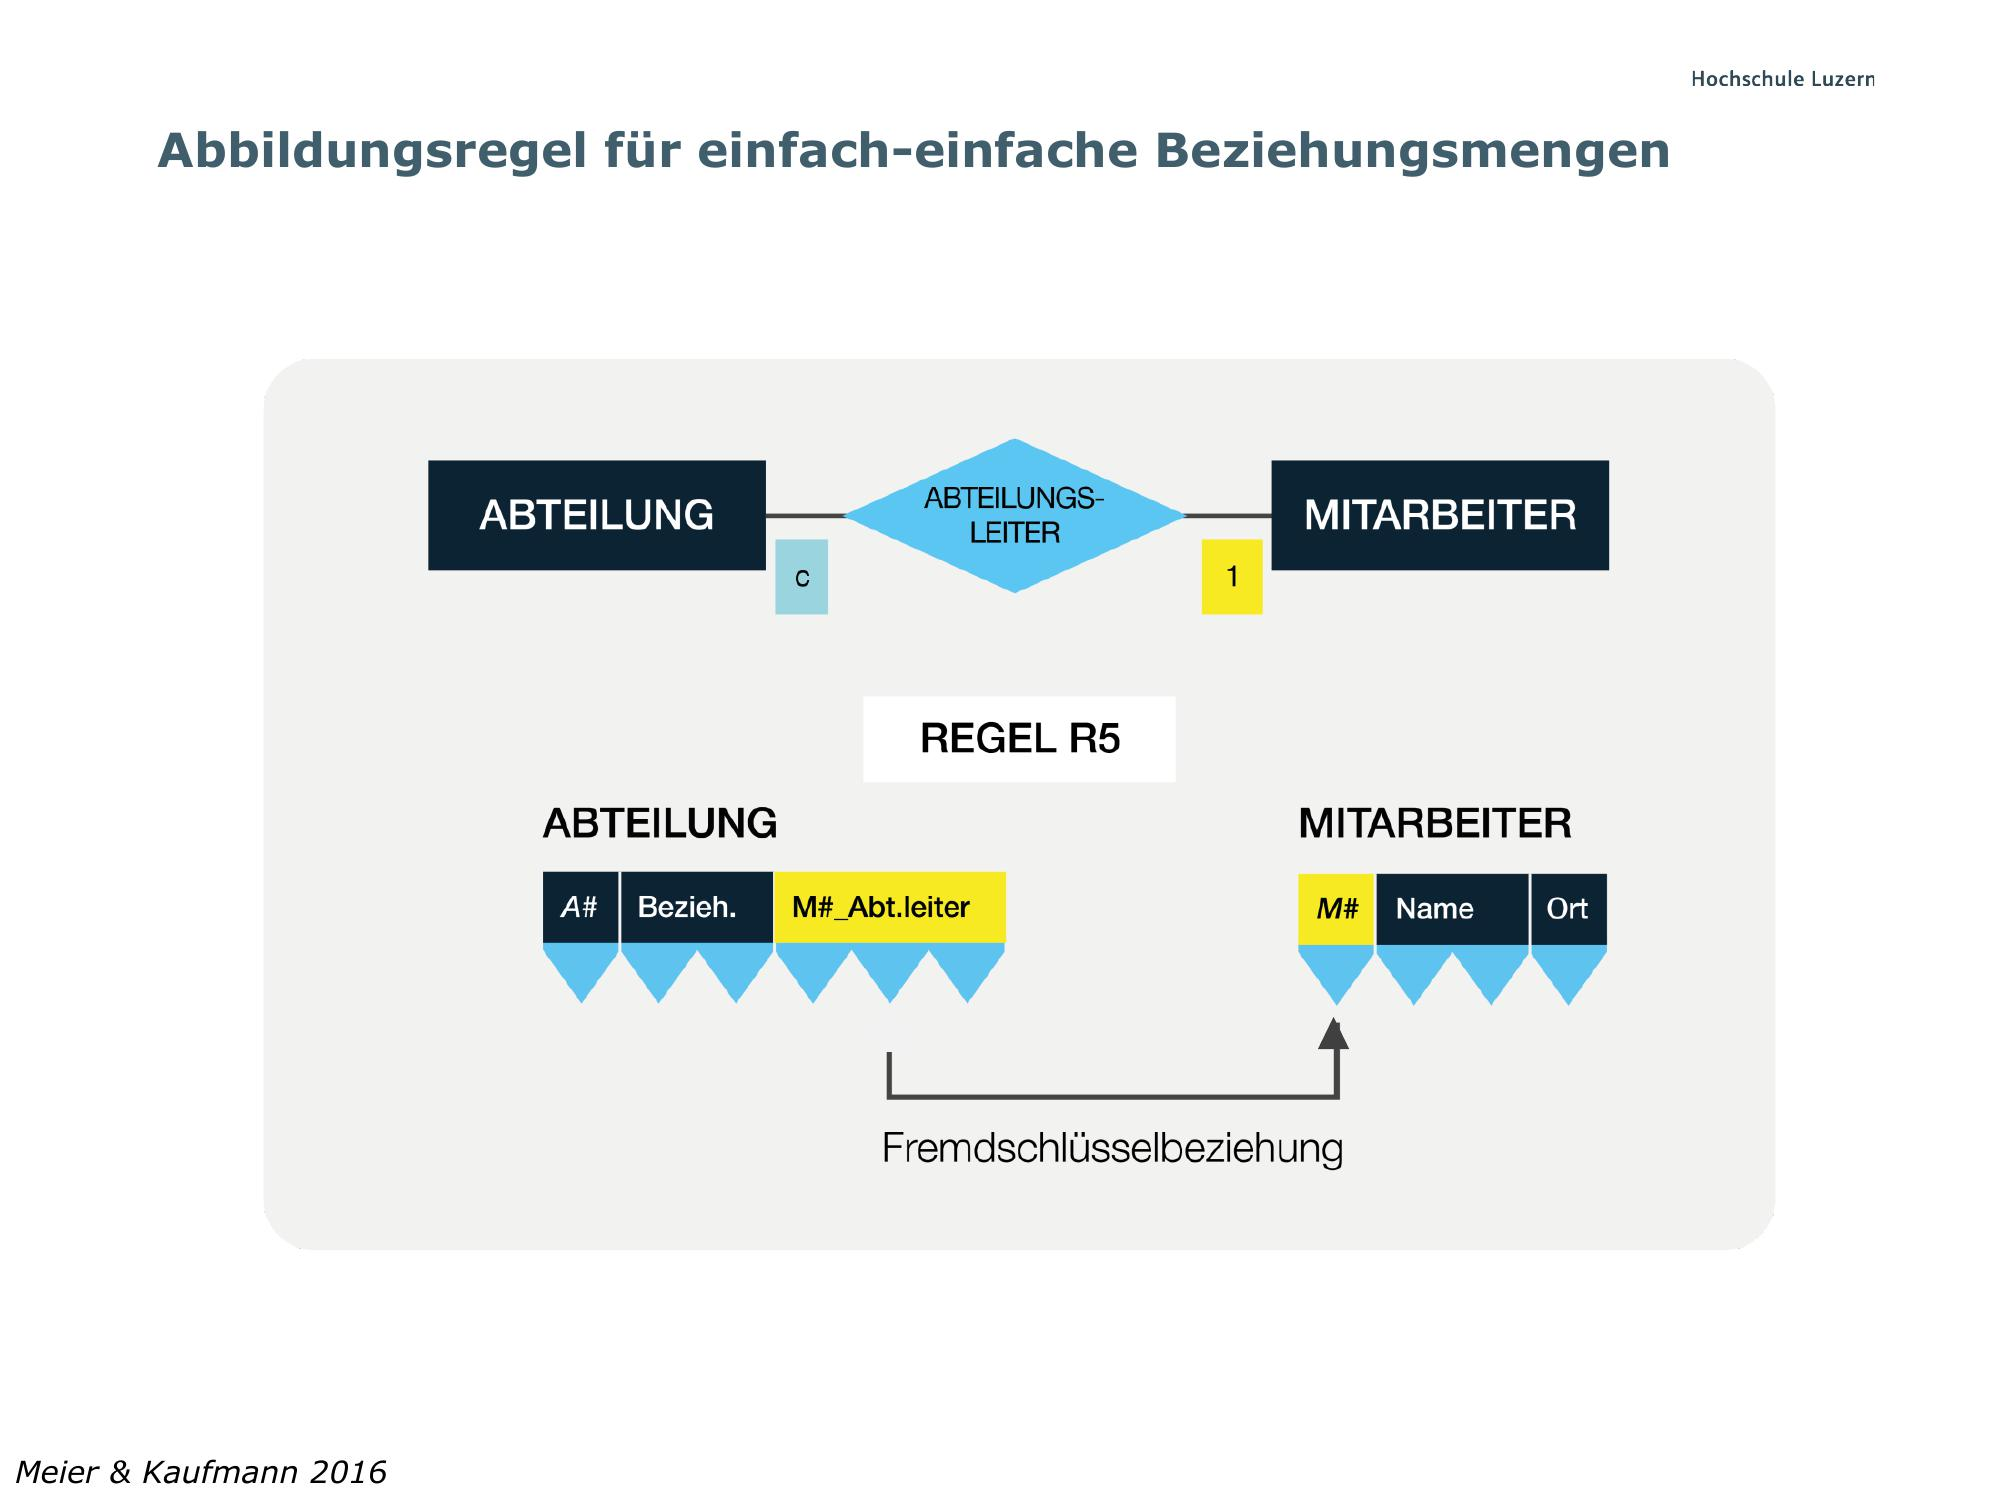Title: (143, 110, 1680, 187)
